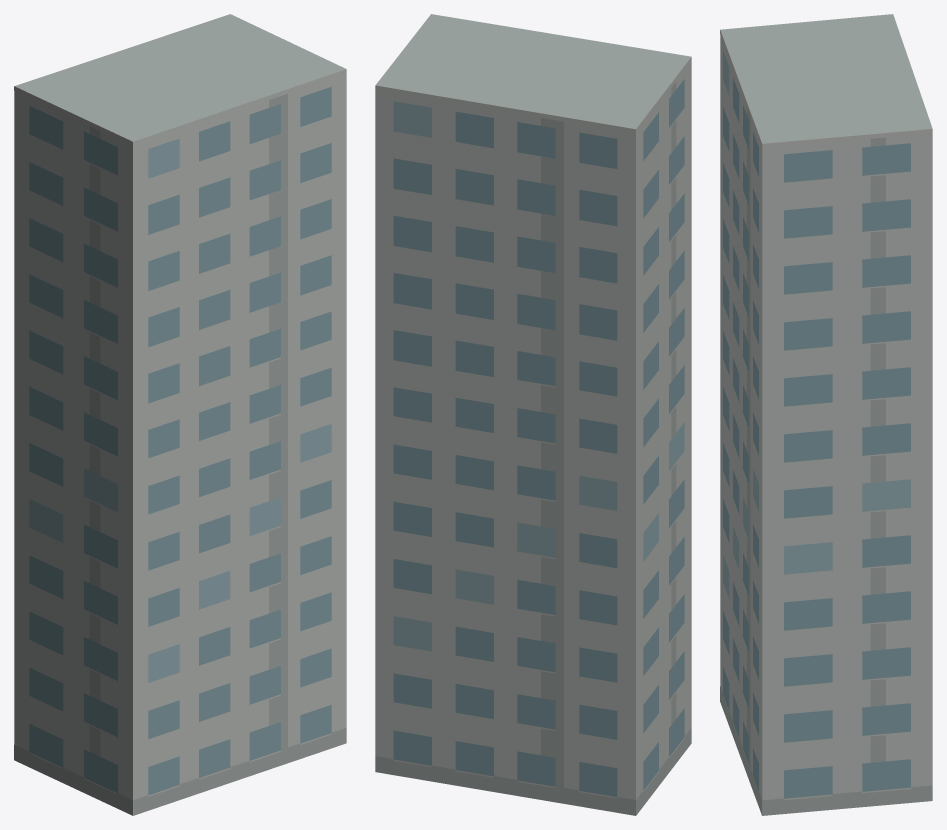
File: survey-upis-32629263.glb
3 renders of one model, left to right at view 1: azimuth 30°, elevation 25°; view 2: azimuth 150°, elevation 25°; view 3: azimuth 270°, elevation 25°, orthographic. The views are drawn at different scales.
Visible parts, largest first — view 1: survey-upis-32629263.tmp; view 2: survey-upis-32629263.tmp; view 3: survey-upis-32629263.tmp.
Boxes of the visible parts, box(x1,y1,x2,y2) form: survey-upis-32629263.tmp: box(14, 14, 346, 815); survey-upis-32629263.tmp: box(375, 14, 691, 815); survey-upis-32629263.tmp: box(720, 14, 932, 815).
Size of the model in its own units: 15.17 by 36.6 by 10.5.
